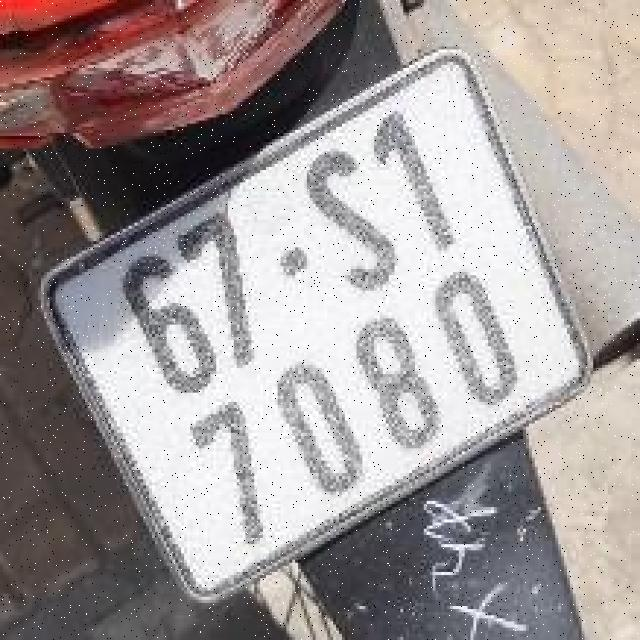0: (413, 247, 553, 423), (252, 338, 391, 509)
1: (358, 93, 478, 267)
6: (102, 233, 238, 409)
7: (157, 198, 303, 380), (173, 376, 307, 563)
8: (341, 296, 467, 465)
S: (288, 140, 415, 316)
